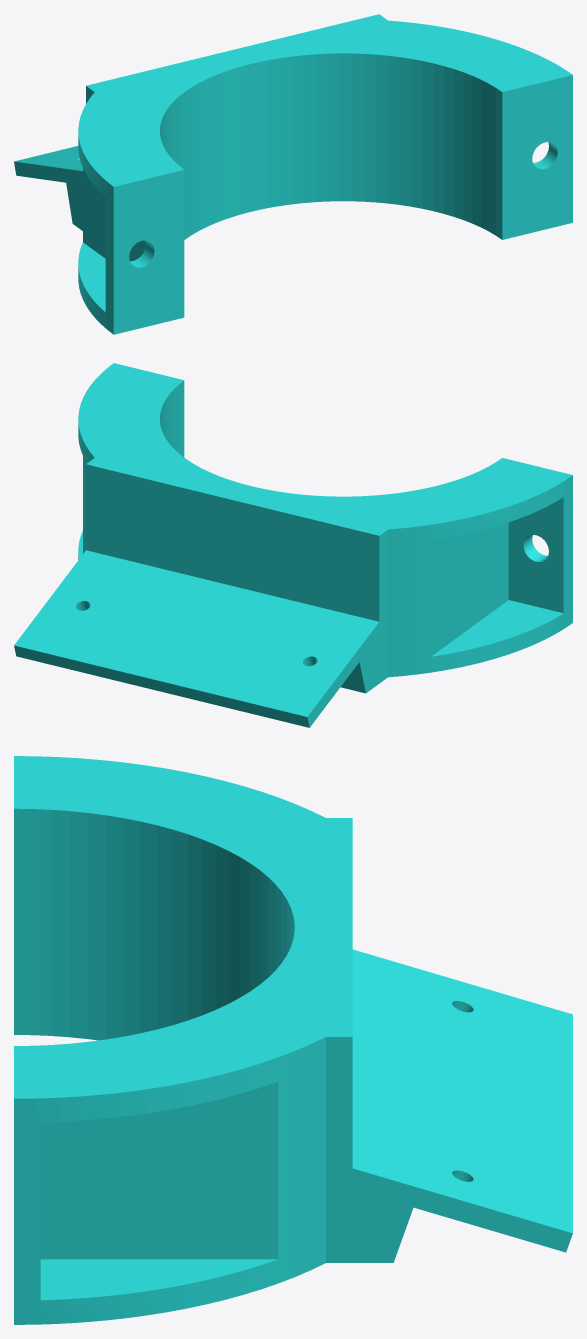
The model's file is UR3_camera_mount_upper.dae.
3 views of the same model, one above another, from view 1: azimuth 30°, elevation 25°; view 2: azimuth 150°, elevation 25°; view 3: azimuth 270°, elevation 25° (orthographic). The views are drawn at different scales.
Visible parts, largest first — view 1: UR3 camera mount upper v1; view 2: UR3 camera mount upper v1; view 3: UR3 camera mount upper v1.
Part boxes in pixels (<box>): UR3 camera mount upper v1: <box>14,14,572,334</box>; UR3 camera mount upper v1: <box>14,363,572,727</box>; UR3 camera mount upper v1: <box>14,756,572,1324</box>.
Size of the model in its own units: 0.091 by 0.0627 by 0.028.
